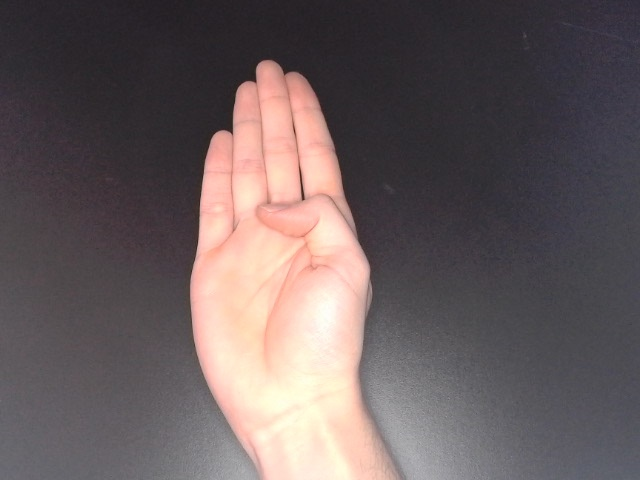b: (182, 56, 378, 437)
